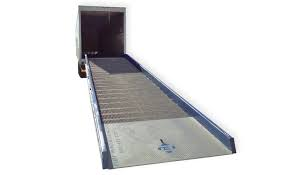Yard Ramp: (84, 52, 237, 170)
